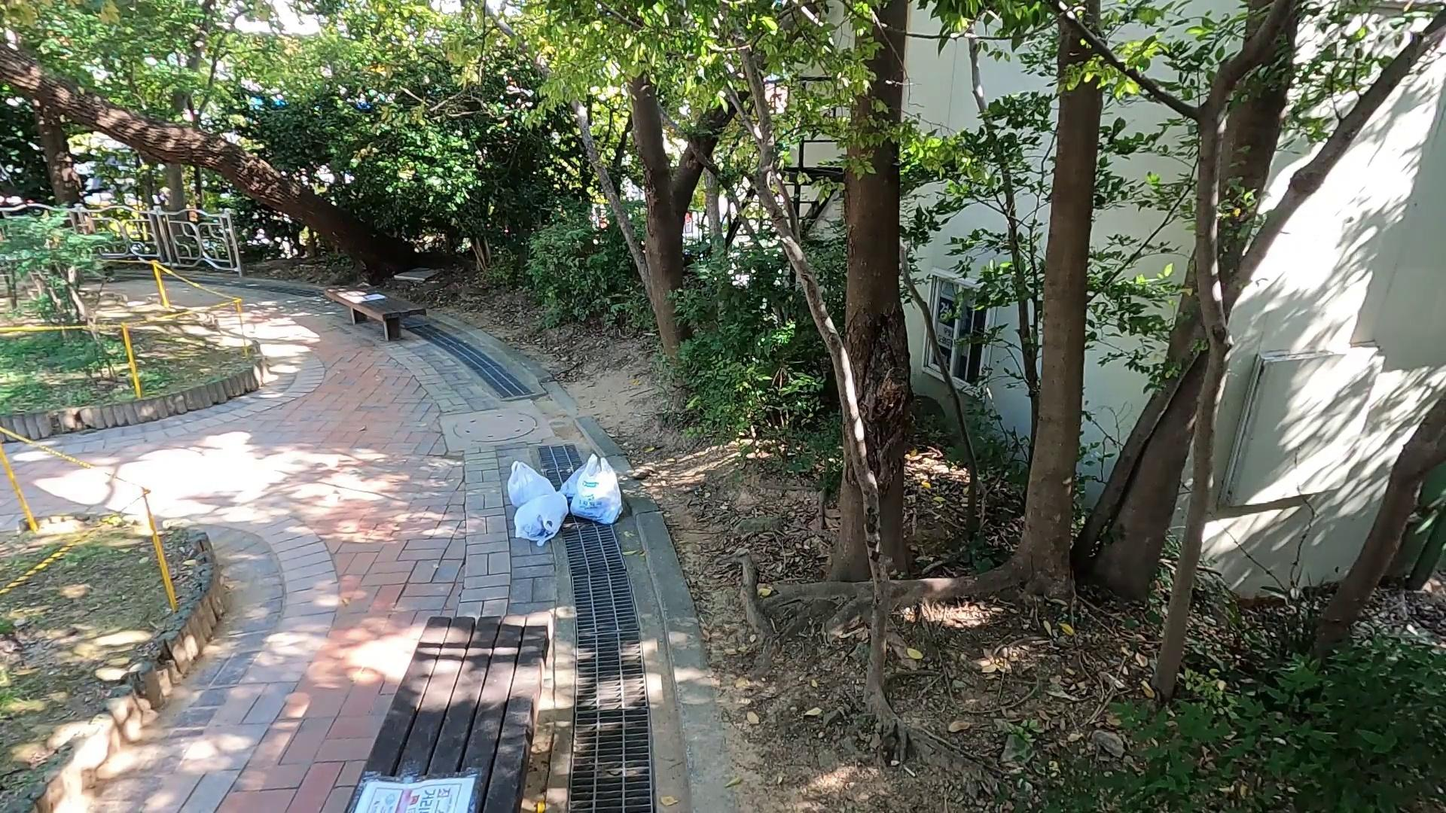trash: (567, 452, 628, 527), (505, 457, 565, 524), (514, 480, 572, 546)
